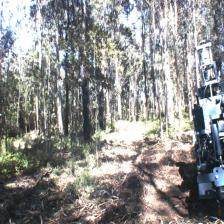trunktrack_idkeyframe: (84, 90, 93, 136)
